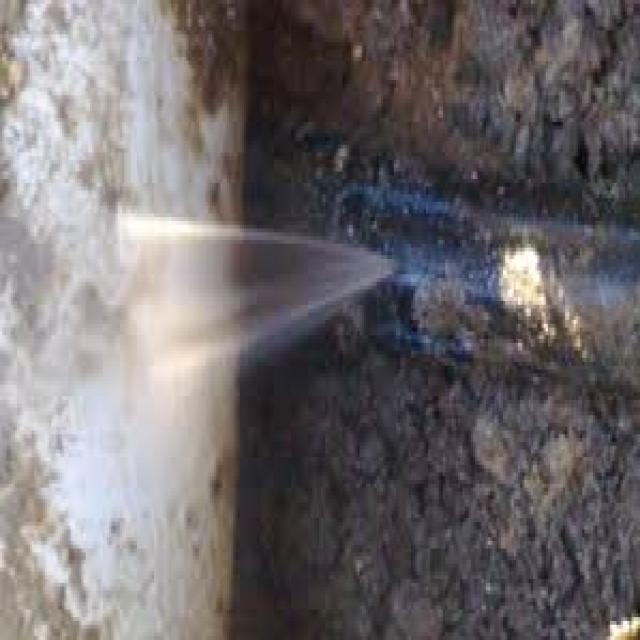pipe burst: (115, 207, 405, 391)
